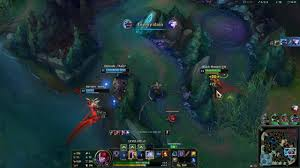bar: (99, 66, 130, 74), (79, 87, 111, 94), (198, 68, 232, 74)
